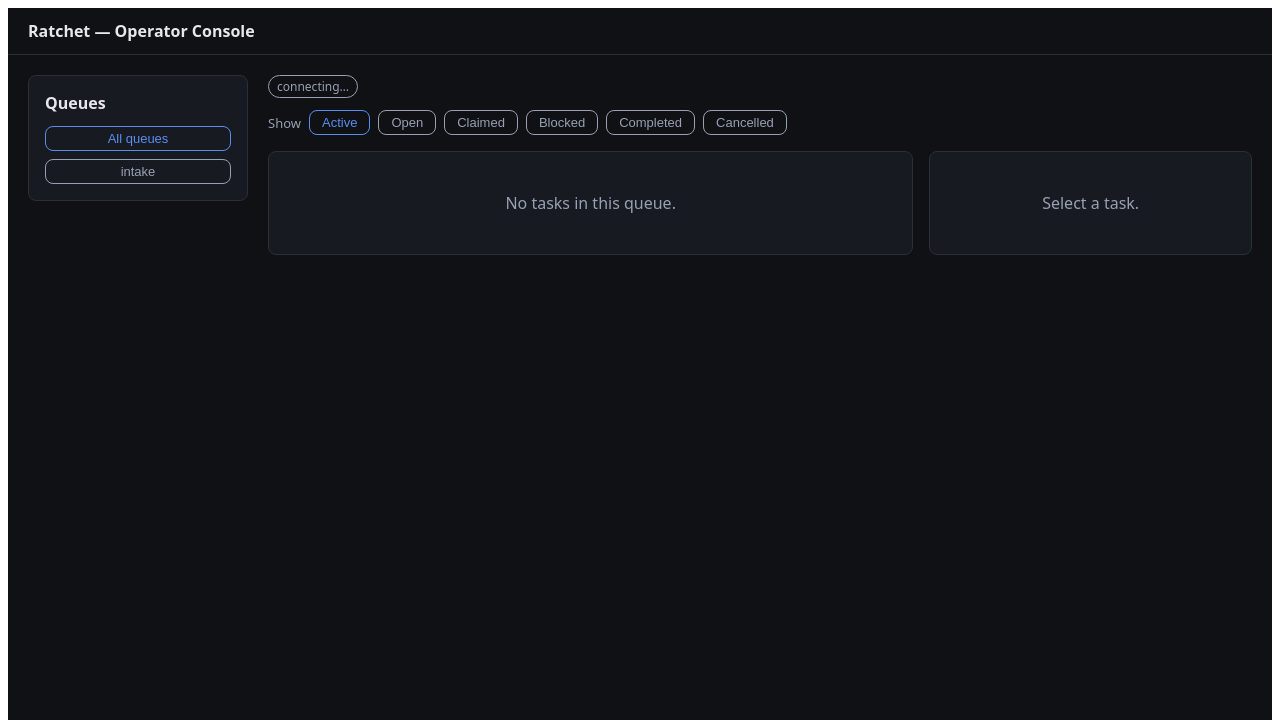
Scenario: the state filter asks the API for active work by default and one state on request
Click the button "Completed" at (651, 122), box [606,110,695,135]
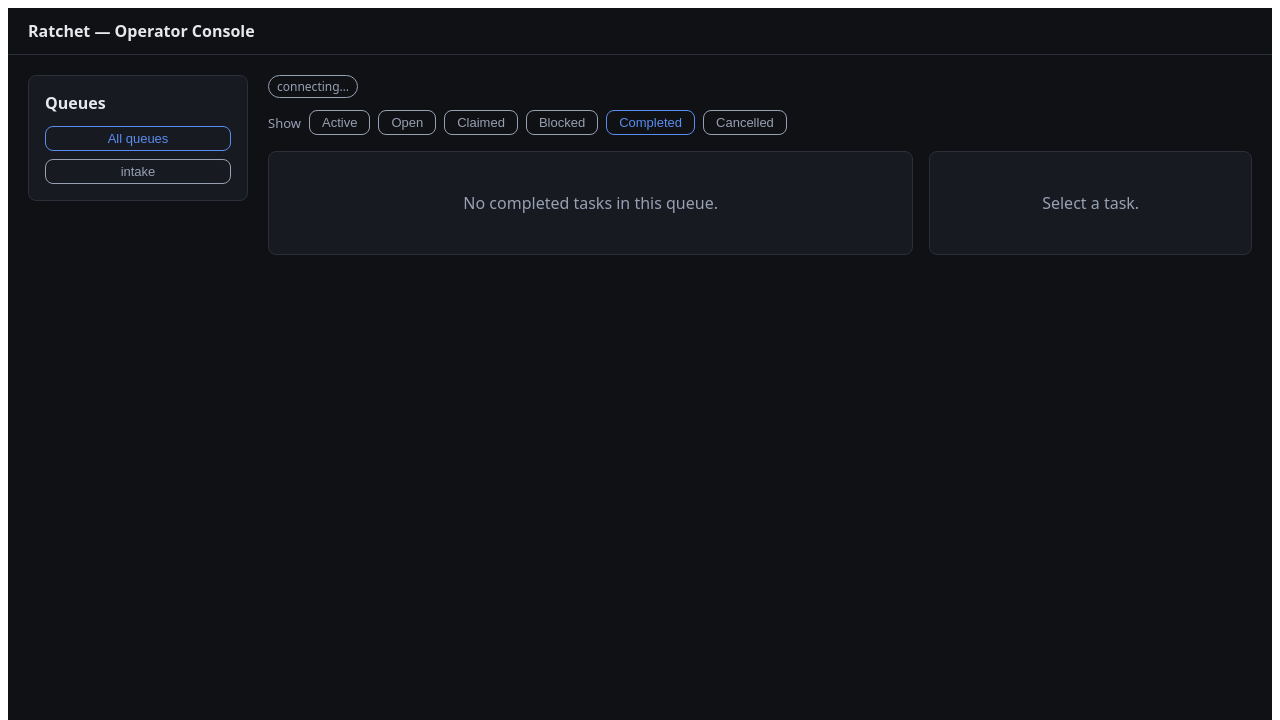
Now the text "No completed tasks in this queue." is shown, box [463,192,718,214]
